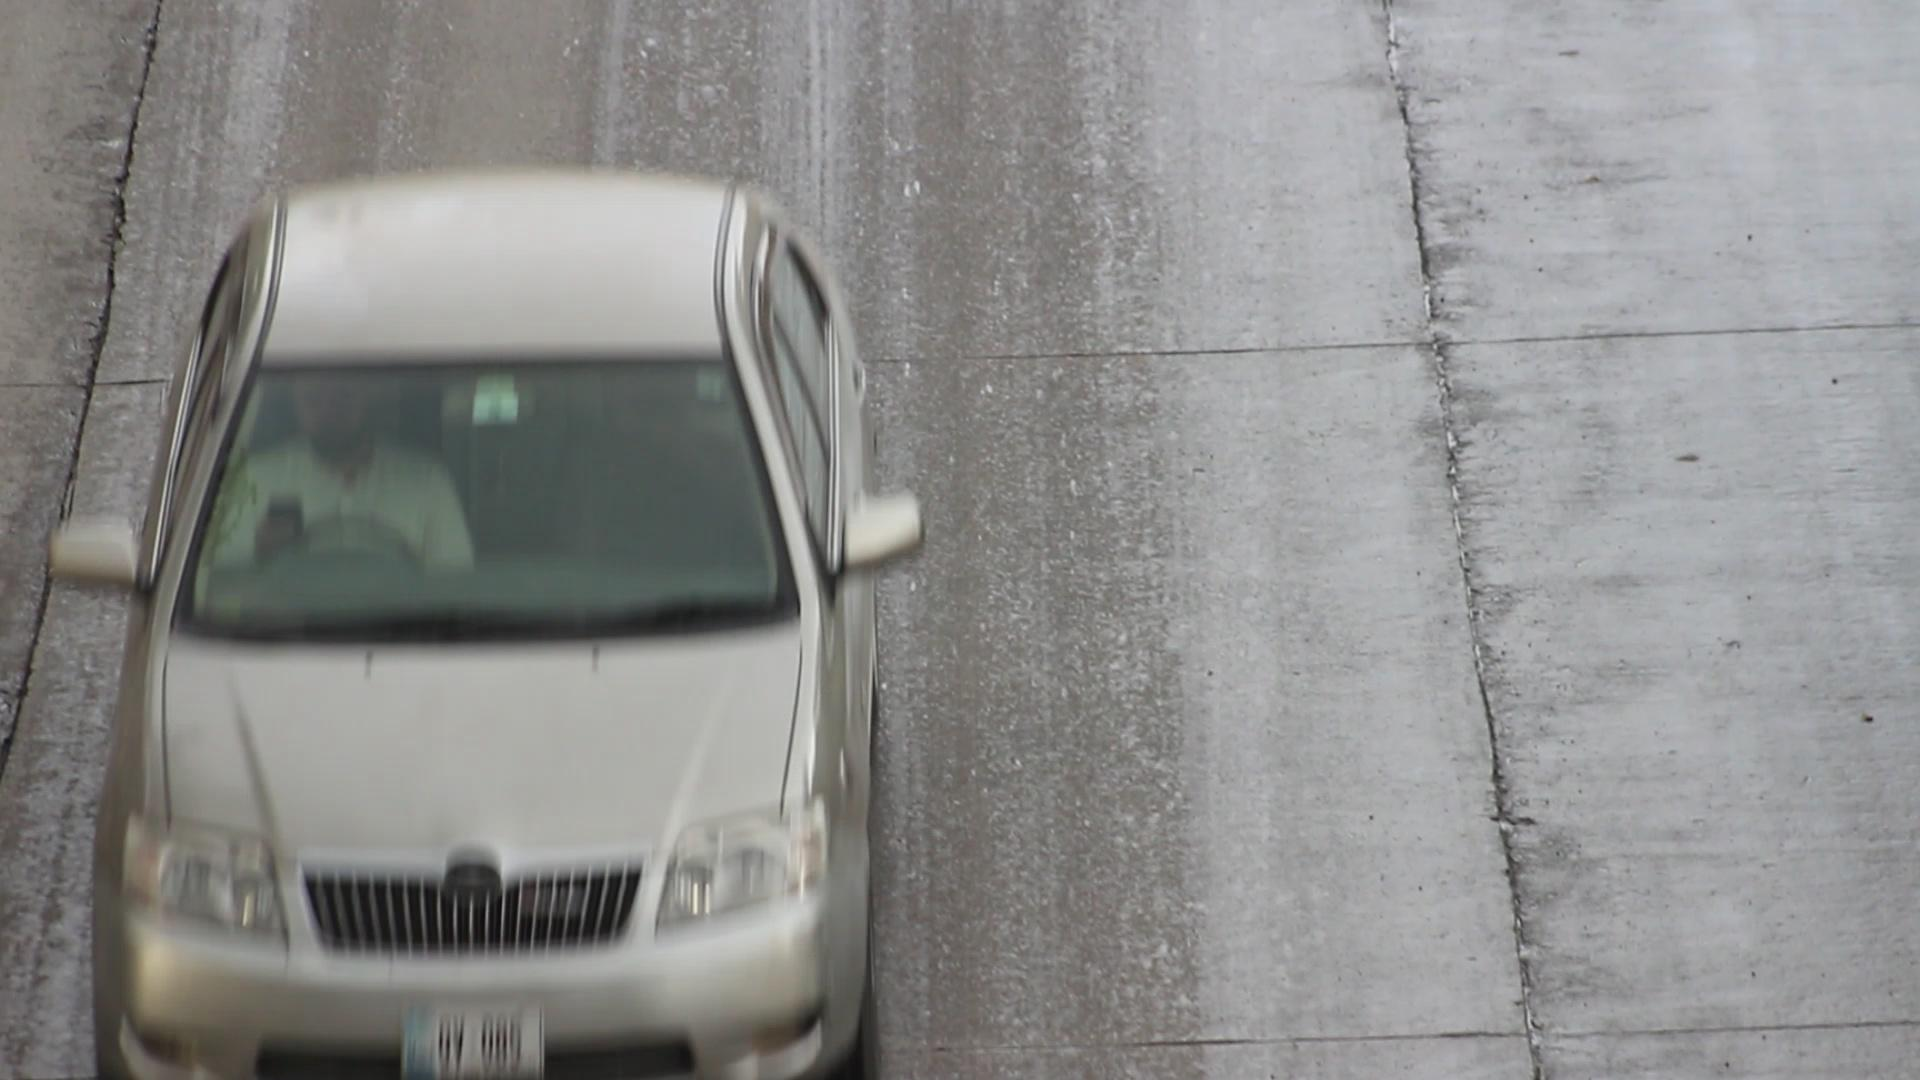windshield: (161, 323, 820, 640)
